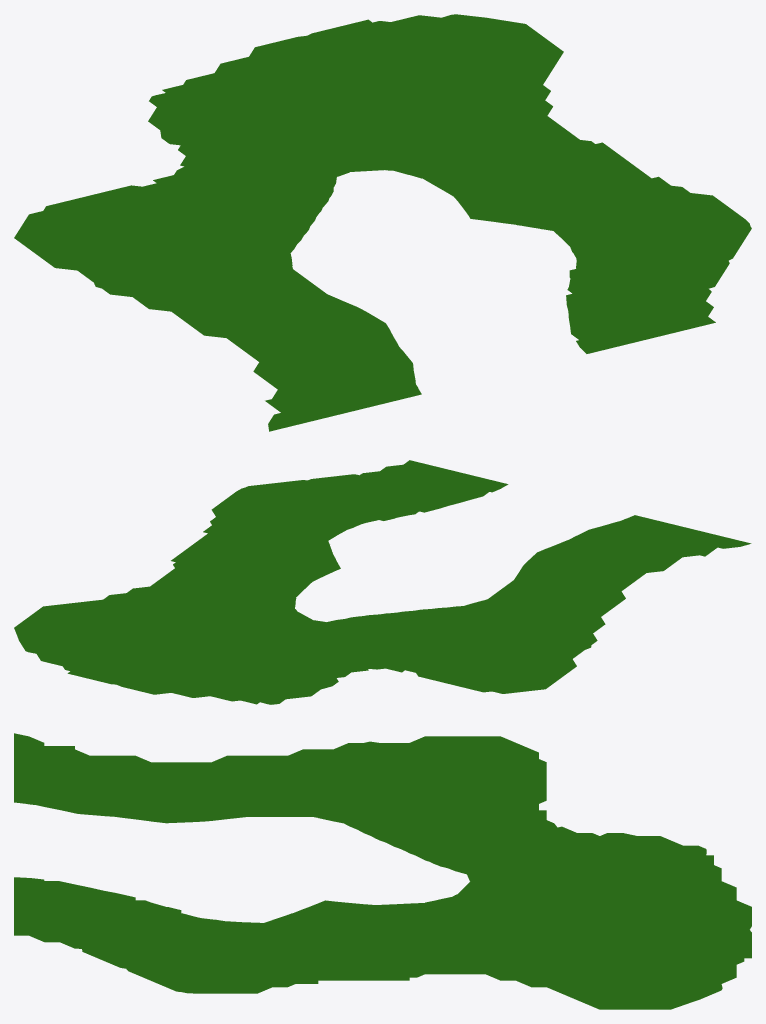
File: map1.glb
The picture shows the model from 3 angles, top to bottom: view 1: azimuth 30°, elevation 25°; view 2: azimuth 150°, elevation 25°; view 3: azimuth 270°, elevation 25°; orthographic projection. The views are drawn at different scales.
Visible parts, largest first — view 1: Плоскость; view 2: Плоскость; view 3: Плоскость.
Part boxes in pixels (x1,y1,x2,y2): Плоскость: (14,14,751,431); Плоскость: (14,460,751,704); Плоскость: (14,733,751,1009).
Bounding box in the file's own units: 86 × 0 × 97.
